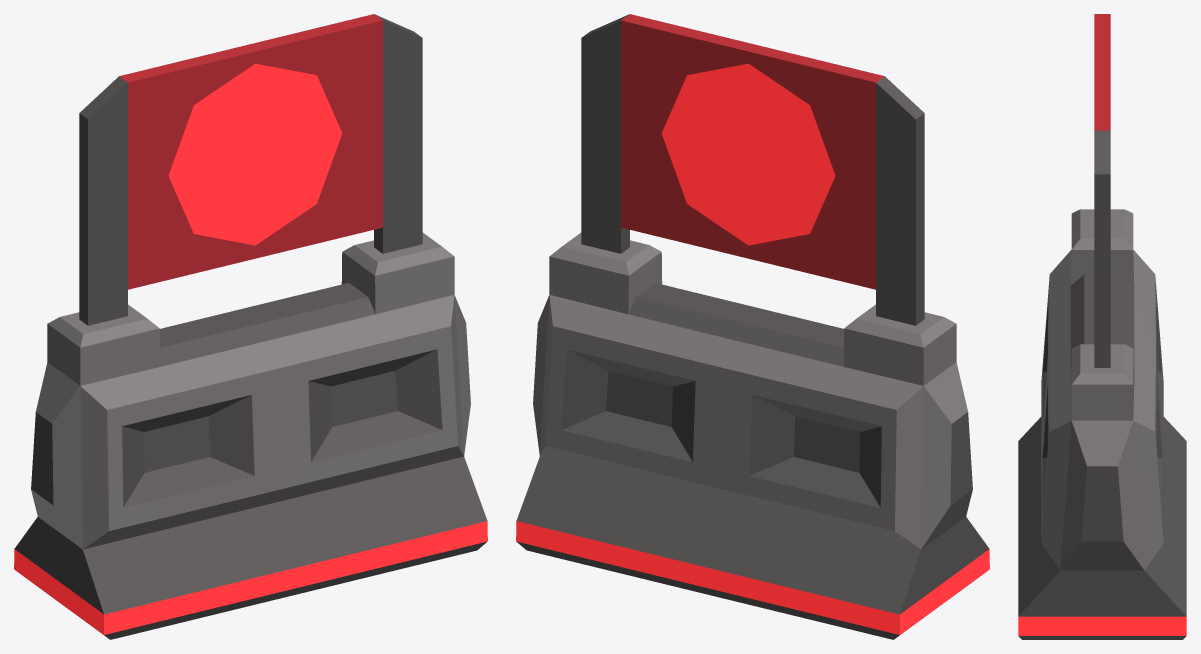
File: scifi_scifi-barrier-medium-hologram.fbx
The picture shows the model from 3 angles, left to right: view 1: azimuth 30°, elevation 25°; view 2: azimuth 150°, elevation 25°; view 3: azimuth 270°, elevation 25°; orthographic projection. The views are drawn at different scales.
Parts seen in each view (by area): view 1: scifi_scifi_barrier_medium_hologram; view 2: scifi_scifi_barrier_medium_hologram; view 3: scifi_scifi_barrier_medium_hologram.
Part boxes in pixels (x1,y1,x2,y2): scifi_scifi_barrier_medium_hologram: [14, 14, 487, 639]; scifi_scifi_barrier_medium_hologram: [516, 14, 989, 639]; scifi_scifi_barrier_medium_hologram: [1018, 14, 1186, 639].
Size of the model in its own units: 169 by 200 by 63.11.
